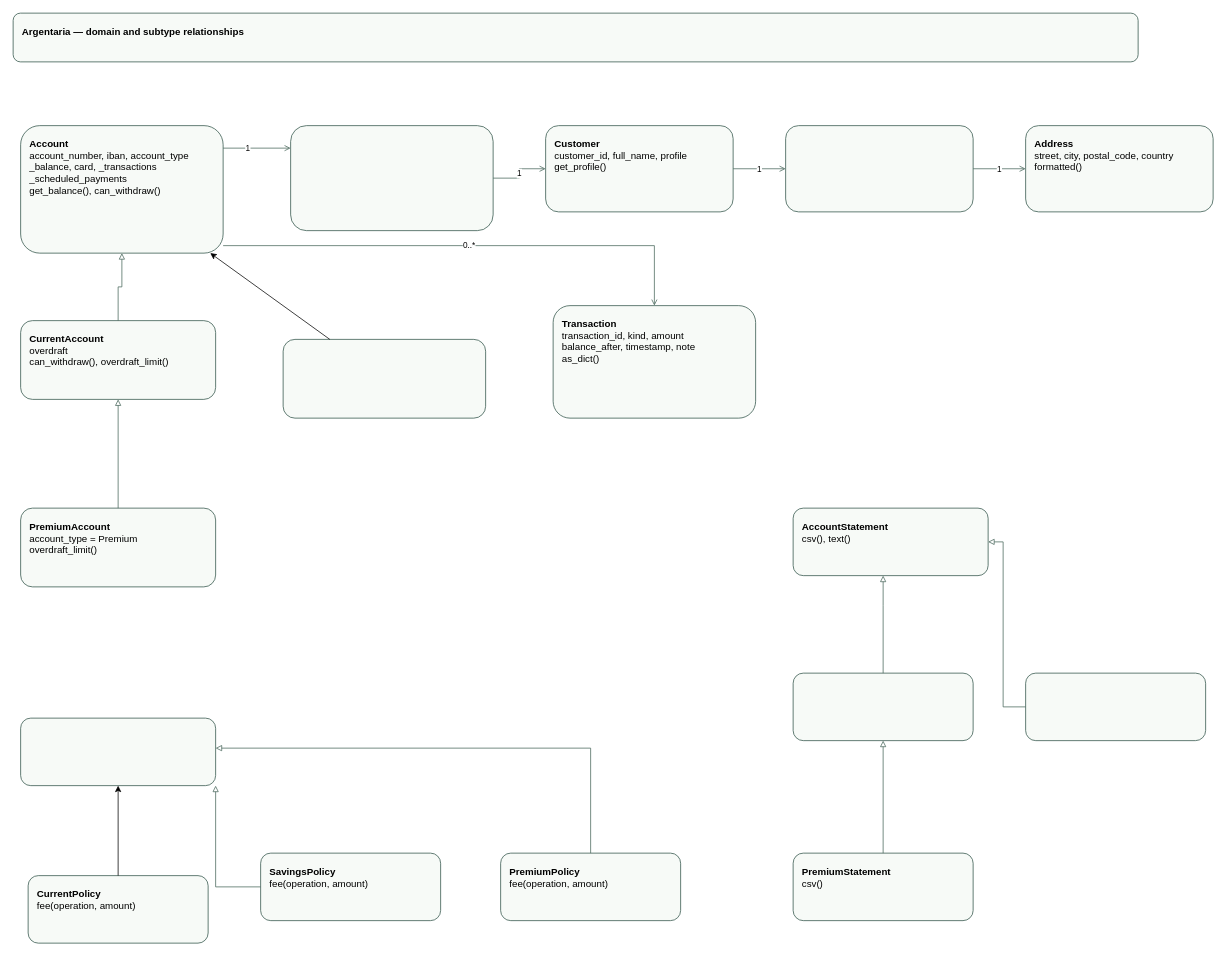
The diagram is 1226 pixels wide and 956 high, and some of its shapes have lost their labels. Here are the shapes that lost their labels. From the top down, the centre of each, then its label:
pixel 391 178: BankCard number, _pin, expiry, status customer matches_pin(), masked_number()
pixel 879 168: CustomerProfile email, phone, address get_address()
pixel 384 378: SavingsAccount interest_rate calculate_monthly_interest()
pixel 882 706: CurrentStatement csv(), render_current()
pixel 1115 706: SavingsStatement csv(), render_savings()
pixel 118 751: AccountPolicy fee(operation, amount)
